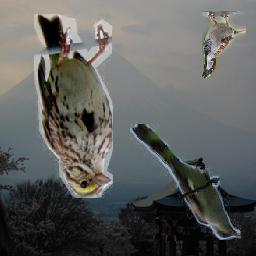Cuckoo: (131, 124, 242, 240)
Sparrow: (35, 14, 114, 198), (202, 12, 246, 79)
